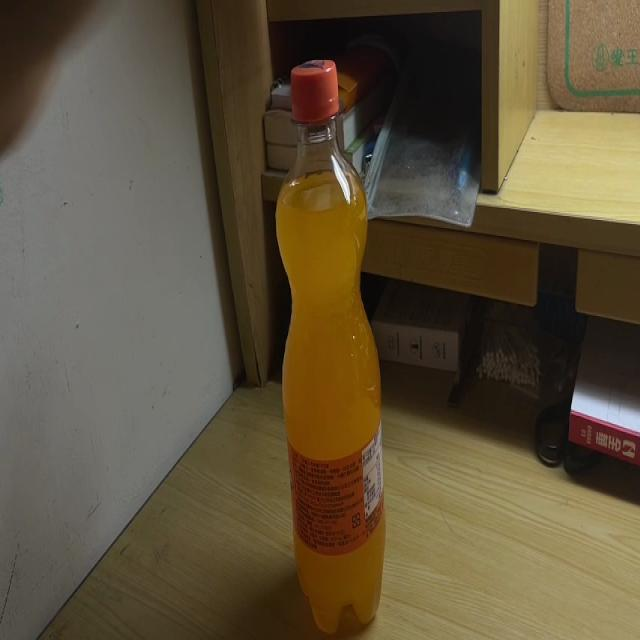Fanta: (276, 58, 386, 640)
